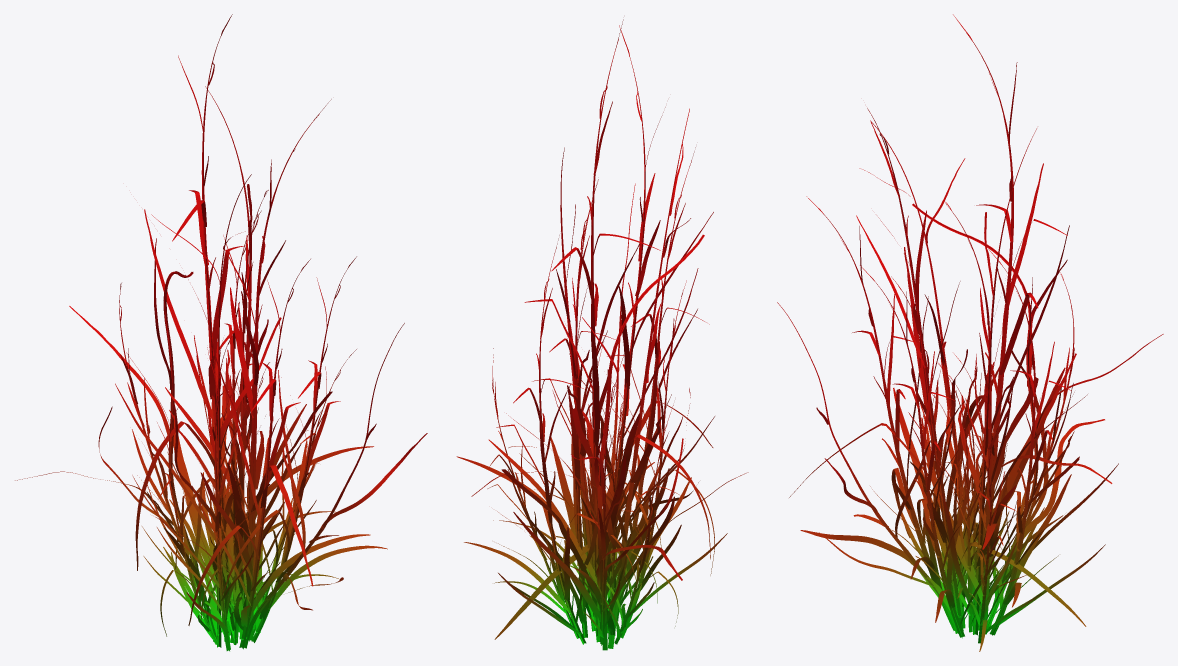
File: tefocd1r_Var1_LOD0.fbx
3 renders of one model, left to right at view 1: azimuth 30°, elevation 25°; view 2: azimuth 150°, elevation 25°; view 3: azimuth 270°, elevation 25°, orthographic. The views are drawn at different scales.
Visible parts, largest first — view 1: _a595_Var1_LOD0; view 2: _a595_Var1_LOD0; view 3: _a595_Var1_LOD0.
Part boxes in pixels (<box>): _a595_Var1_LOD0: <box>15,14,427,651</box>; _a595_Var1_LOD0: <box>456,19,748,650</box>; _a595_Var1_LOD0: <box>777,14,1163,651</box>.
Size of the model in its own units: 48.71 by 101 by 57.47.
